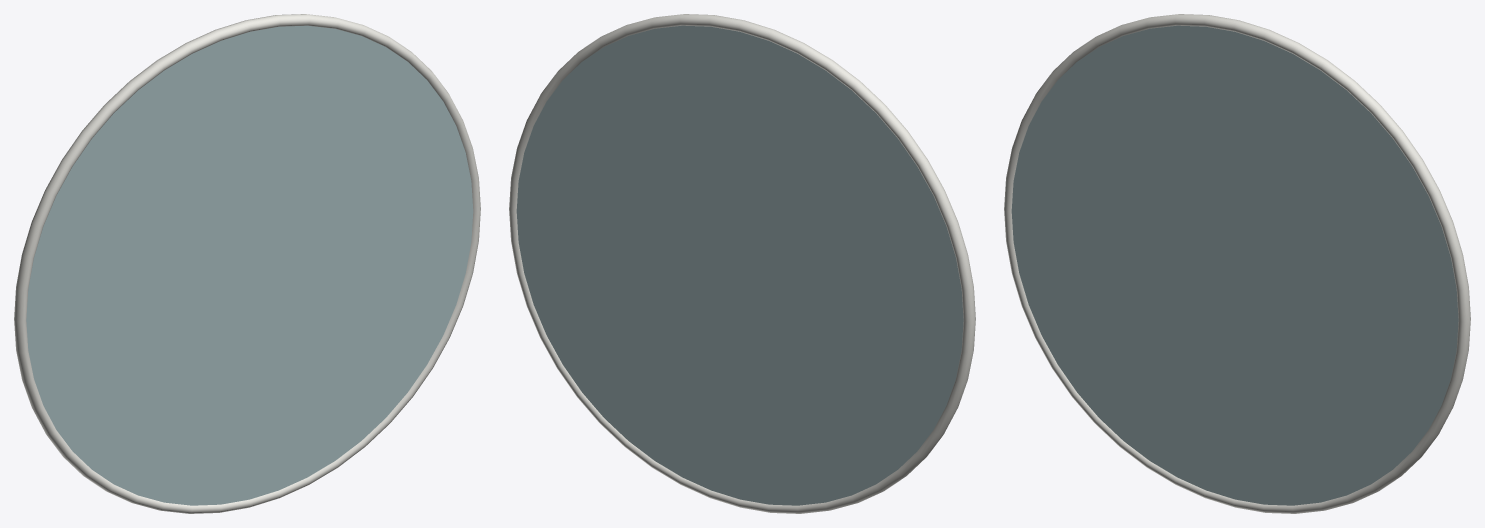
Rendered from lindbyn.glb.
3 views of the same model, side by side, from view 1: azimuth 30°, elevation 25°; view 2: azimuth 150°, elevation 25°; view 3: azimuth 330°, elevation 25° (orthographic).
Parts seen in each view (by area): view 1: LINDBYN Round mirror, 80 cm; view 2: LINDBYN Round mirror, 80 cm; view 3: LINDBYN Round mirror, 80 cm.
Part boxes in pixels (x1,y1,x2,y2): LINDBYN Round mirror, 80 cm: [14, 14, 480, 513]; LINDBYN Round mirror, 80 cm: [509, 14, 975, 513]; LINDBYN Round mirror, 80 cm: [1004, 14, 1470, 513].
Size of the model in its own units: 0.8 by 0.8 by 0.02.
Materials: 2 (1 with a texture image).
